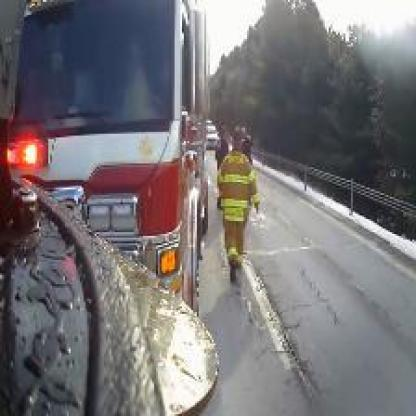other: (86, 154, 178, 278), (204, 154, 259, 273), (12, 129, 46, 171)
